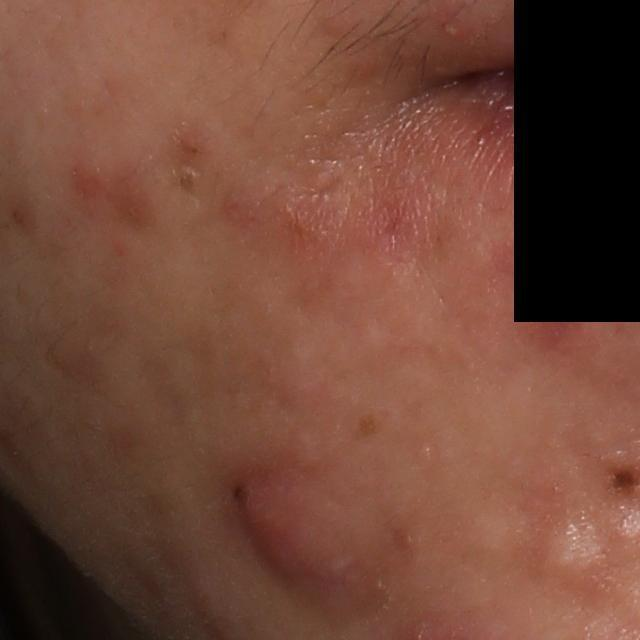hypertrophic_scar: (538, 512, 607, 593), (456, 507, 535, 569)
nodule: (234, 465, 387, 614)
